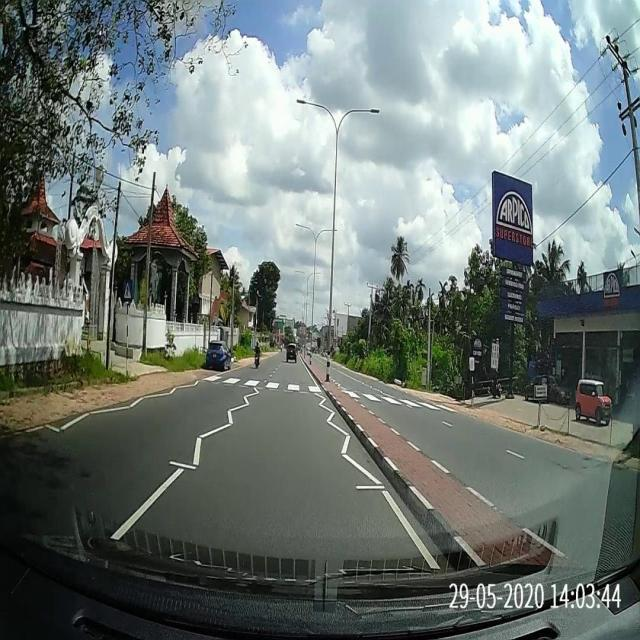Crosswalk: (196, 371, 467, 413)
